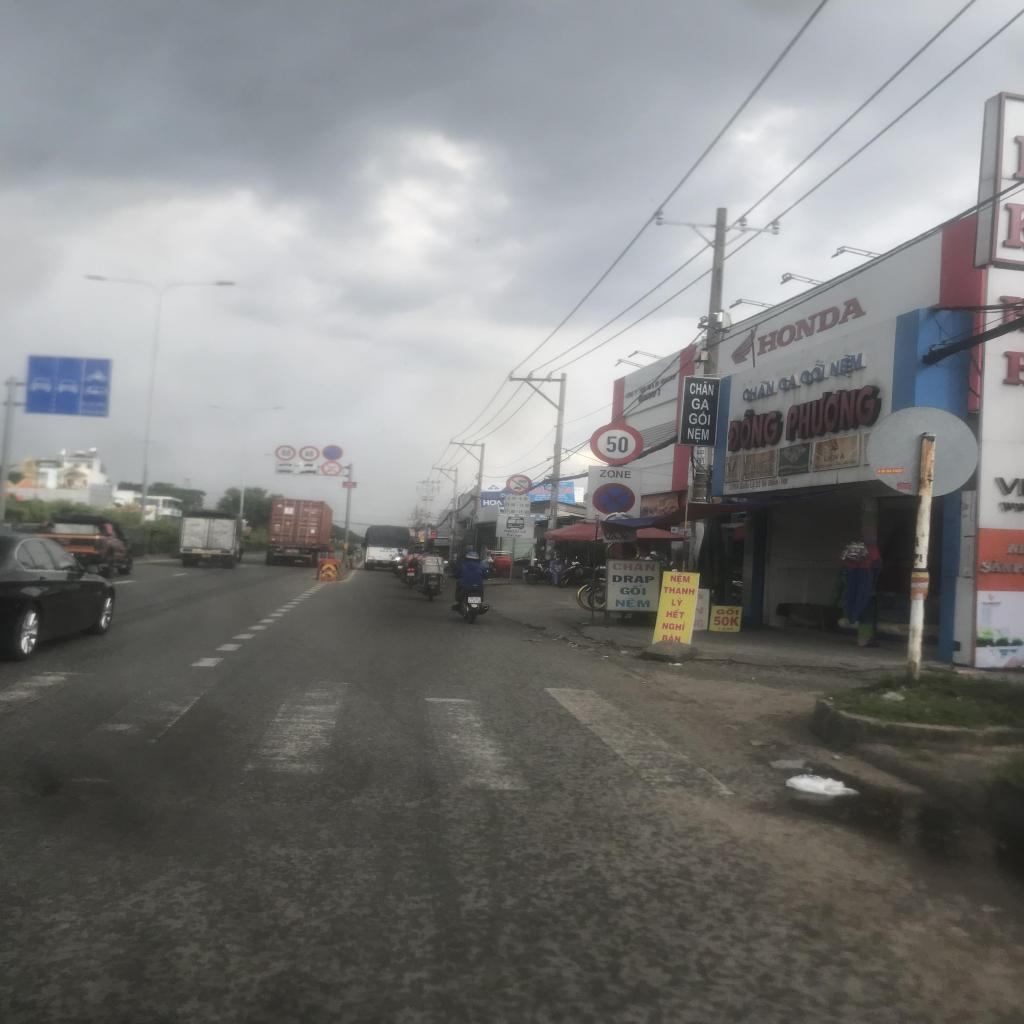cam_dung_xe_va_do_xe: (592, 483, 635, 514), (322, 445, 343, 460)
cam_o_to_tai_va_xe_khach: (505, 474, 535, 496)
cam_xe_2_banh_va_xe_3_banh_co_dong_co: (321, 461, 342, 476)
khac: (496, 515, 534, 539), (503, 495, 531, 515), (299, 462, 317, 469), (300, 469, 317, 476), (276, 462, 294, 468), (275, 469, 293, 474)
lan_duong_cho_tung_xe_theo_vach_ke_duong: (26, 357, 110, 417)
toc_do_toi_da_50: (589, 424, 644, 463)
toc_do_toi_da_60: (299, 446, 320, 462)
toc_do_toi_da_80: (275, 446, 296, 461)
